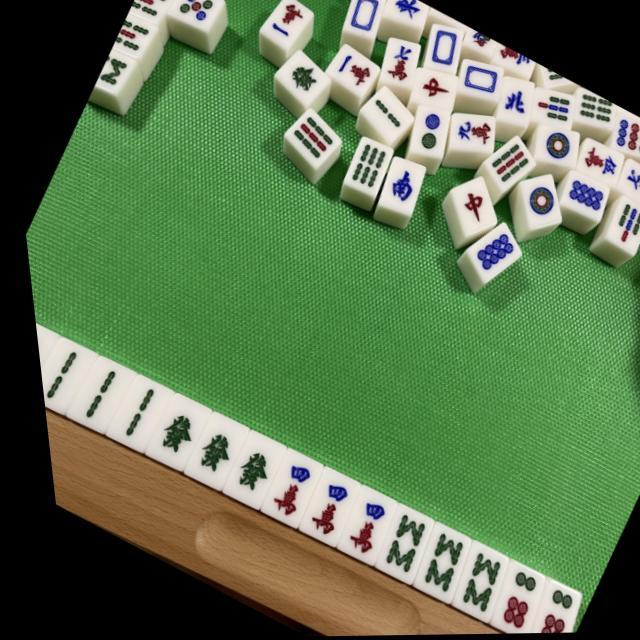bf2: (28, 319, 47, 389)
hdg: (172, 421, 238, 488), (135, 400, 199, 466), (212, 442, 272, 504)
sb2: (60, 358, 124, 429), (99, 377, 161, 447), (30, 339, 84, 408)
sb8: (434, 548, 500, 618), (398, 528, 463, 597), (361, 511, 423, 578)
sc4: (320, 492, 386, 561), (249, 456, 312, 524), (286, 476, 348, 540)
sd6: (473, 566, 537, 634), (511, 586, 570, 635)
